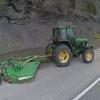Tractor: (39, 21, 100, 75)
